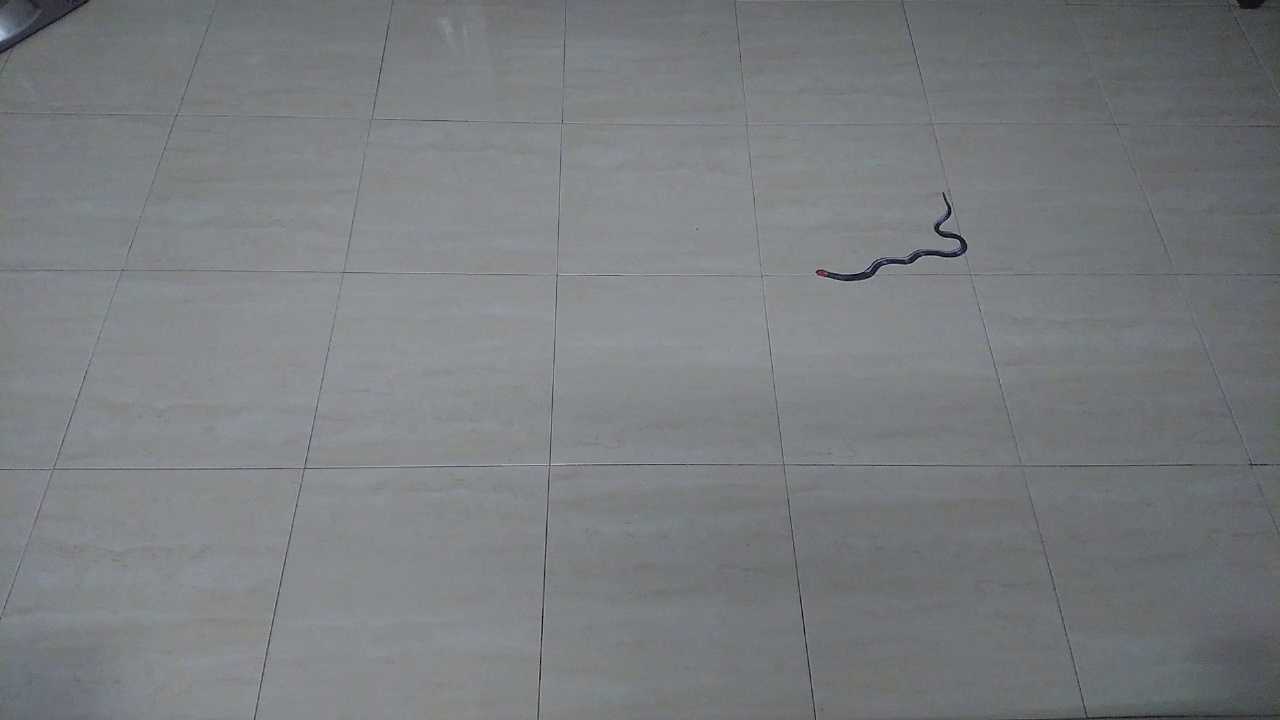snake: (807, 181, 974, 285)
